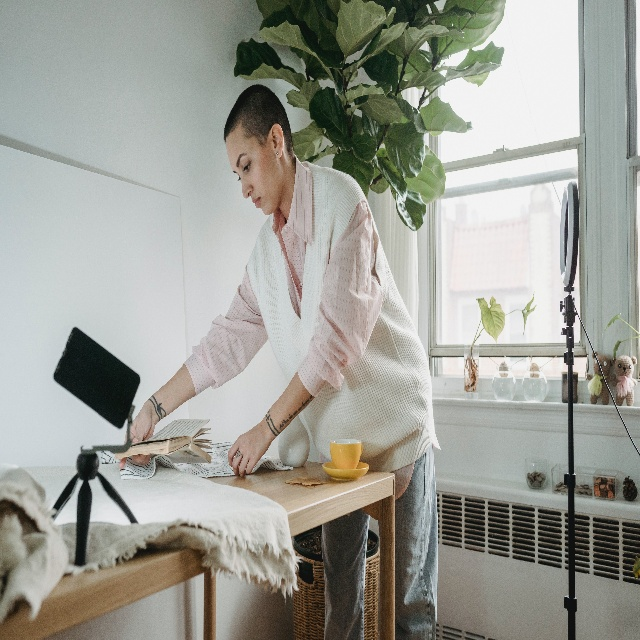Sin_guantes: (118, 400, 156, 469), (227, 423, 272, 478)
